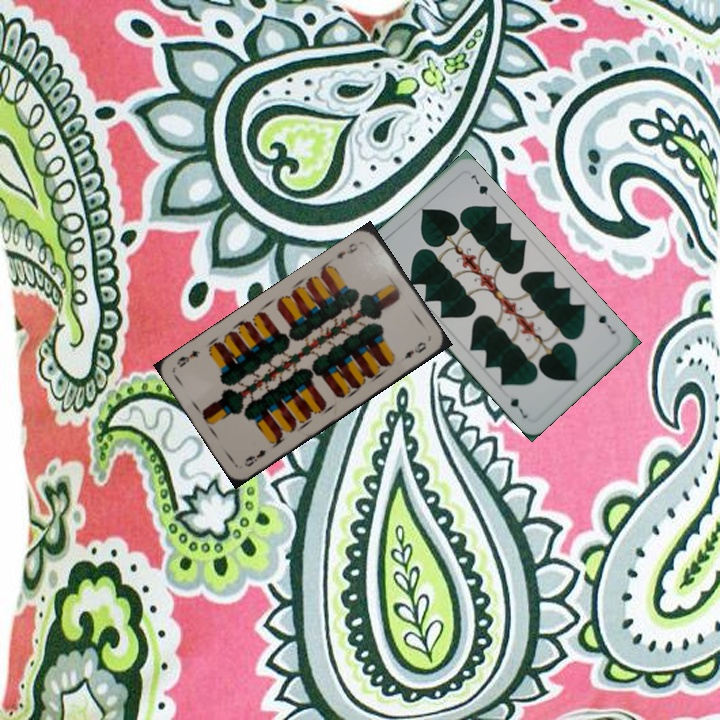E9: (332, 238, 361, 262), (240, 446, 268, 469)
G7: (594, 310, 618, 337)
